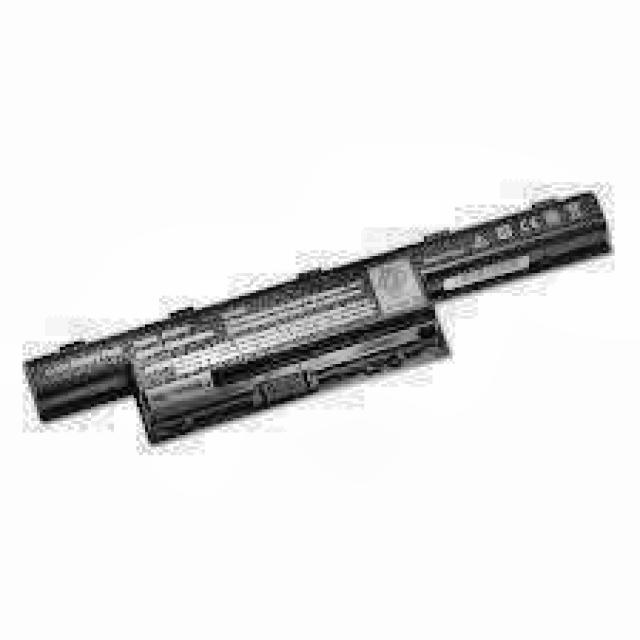Battery: (31, 196, 614, 447)
